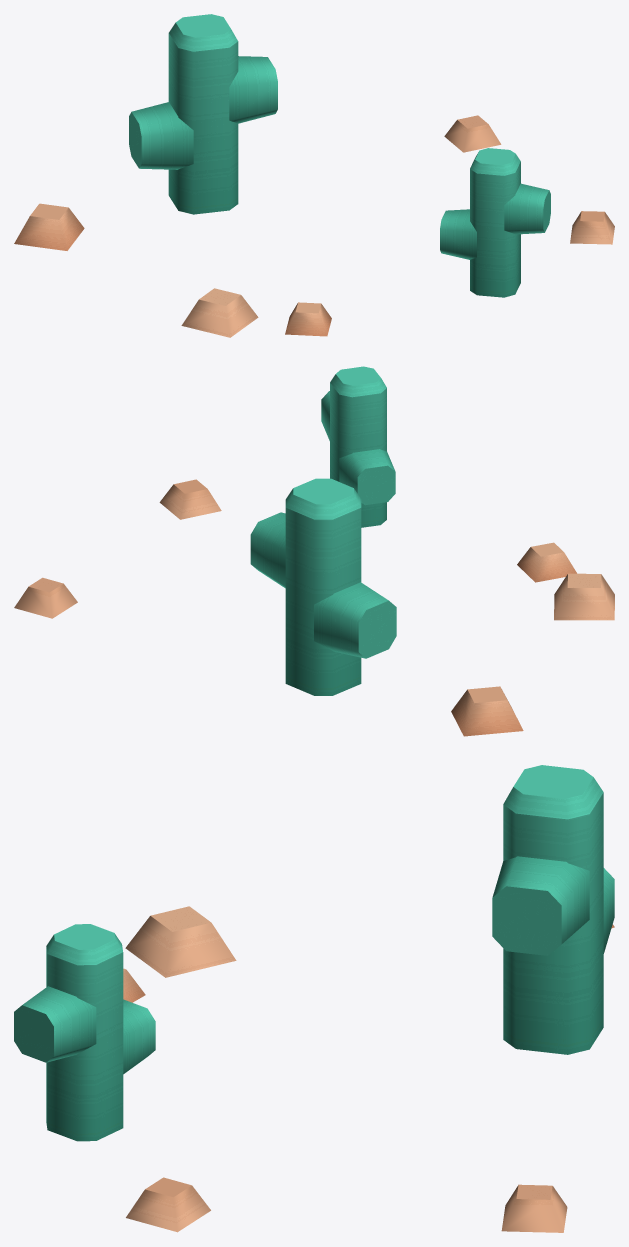
The model's file is savanna_bits_1.glb.
3 views of the same model, one above another, from view 1: azimuth 30°, elevation 25°; view 2: azimuth 150°, elevation 25°; view 3: azimuth 270°, elevation 25° (orthographic). The views are drawn at different scales.
Parts seen in each view (by area): view 1: sand-desert; view 2: sand-desert; view 3: sand-desert.
Boxes of the visible parts, box(x1,y1,x2,y2) form: sand-desert: box(14, 14, 614, 337); sand-desert: box(14, 366, 614, 736); sand-desert: box(14, 765, 614, 1232).
Size of the model in its own units: 0.8753 by 0.31 by 0.6709.
Materials: 1 (1 with a texture image).
